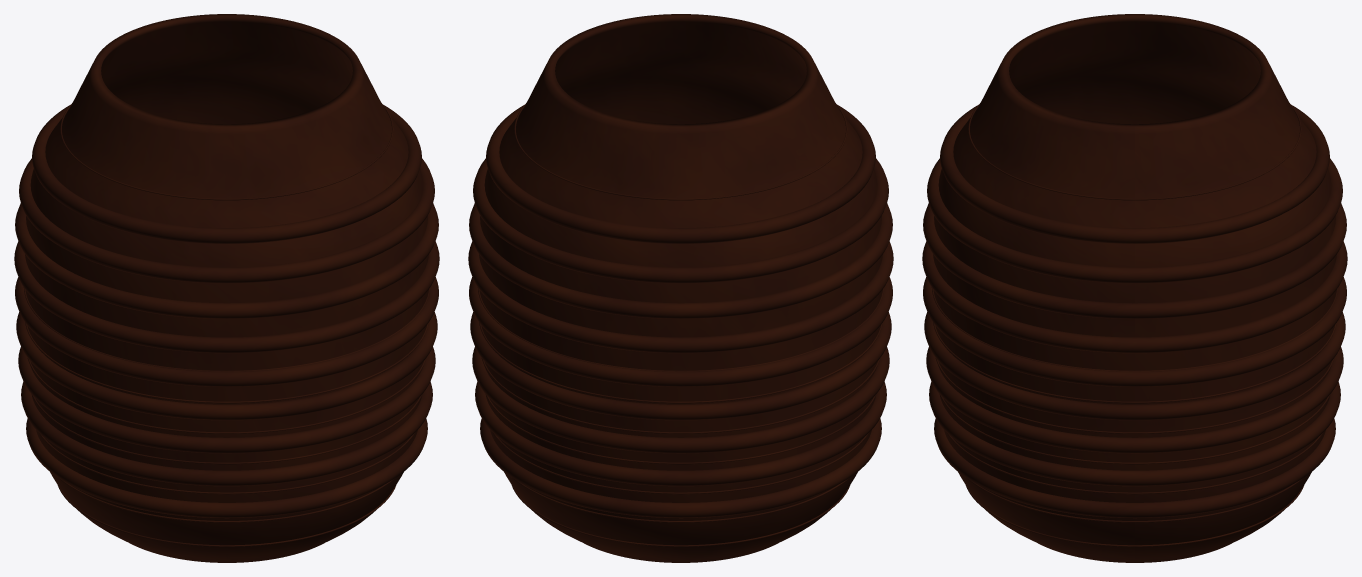
Rendered from bcm-1109.glb.
3 renders of one model, left to right at view 1: azimuth 30°, elevation 25°; view 2: azimuth 150°, elevation 25°; view 3: azimuth 270°, elevation 25°, orthographic.
Parts seen in each view (by area): view 1: Continuous hollow vessel with formed lip; view 2: Continuous hollow vessel with formed lip; view 3: Continuous hollow vessel with formed lip.
Part boxes in pixels (x1=…): Continuous hollow vessel with formed lip: x1=14, y1=14, x2=439, y2=562; Continuous hollow vessel with formed lip: x1=468, y1=14, x2=893, y2=562; Continuous hollow vessel with formed lip: x1=922, y1=14, x2=1347, y2=562.
Size of the model in its own units: 0.8513 by 0.97 by 0.8513.
